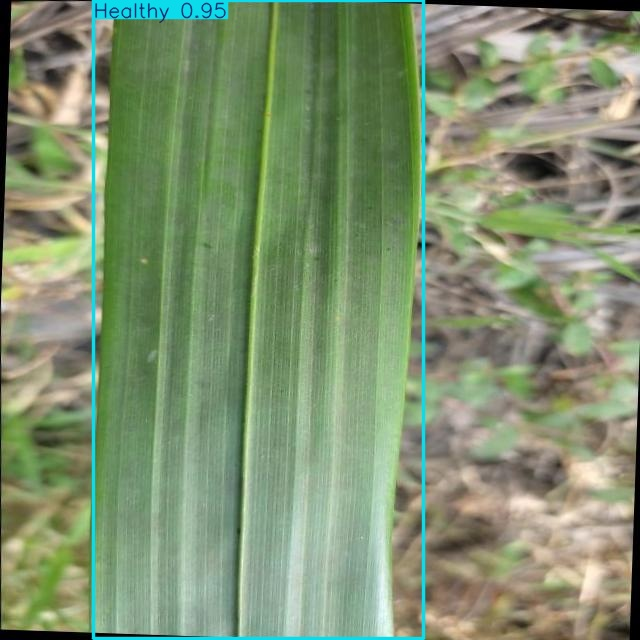Healthy: (93, 1, 424, 639)
